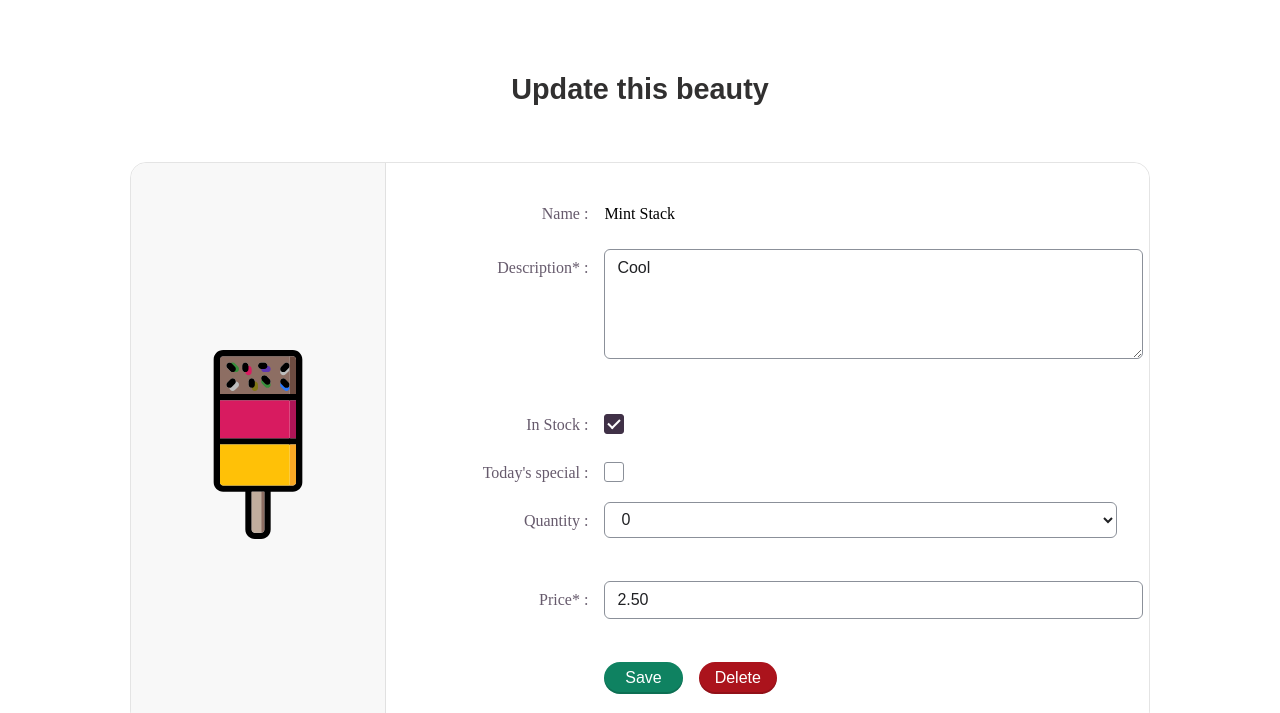
Test case: a failed save or delete › keeps the edit form and shows an alert on save
This screenshot has width=1280, height=713.
Expected: the text box showing "Cool" is shown, top-left (604, 249), bottom-right (1143, 359)
Click the button "Save". click: (644, 678)
box: top-left (604, 662), bottom-right (683, 694)
(page scrolled)
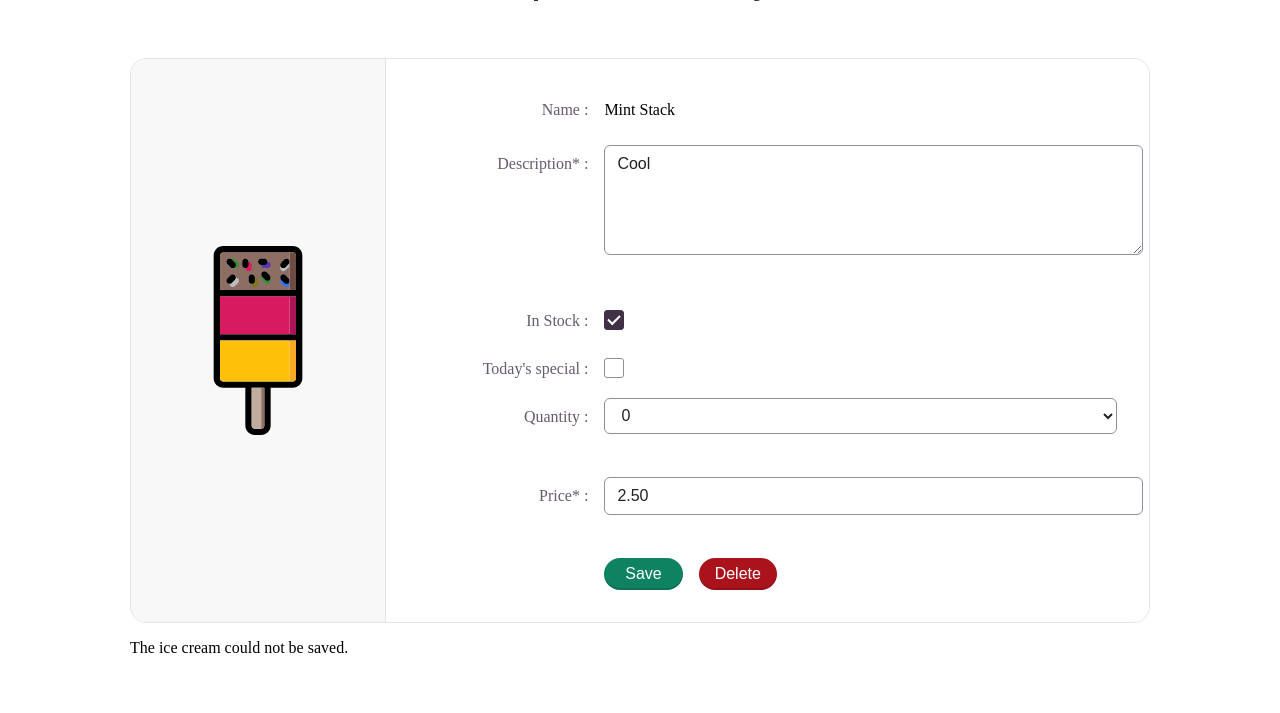
Expected: the button "Save" is shown, top-left (604, 558), bottom-right (683, 590)
Expected: the message "The ice cream could not be saved." is shown, top-left (130, 639), bottom-right (348, 656)
